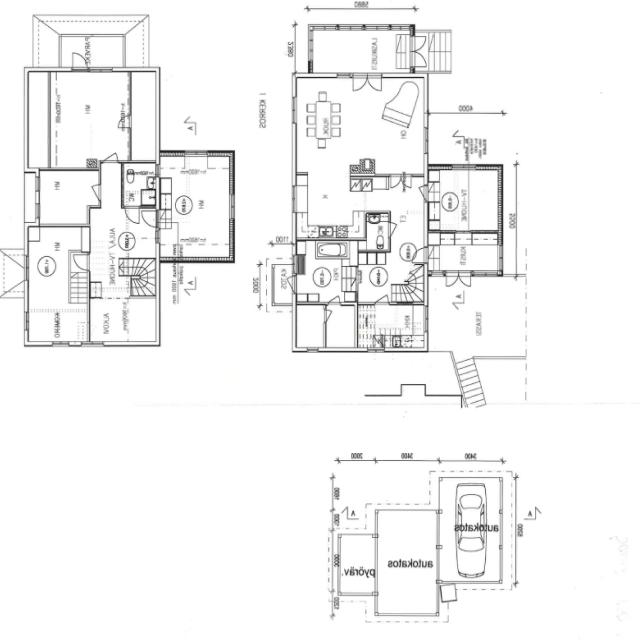door: (71, 47, 89, 72), (140, 210, 160, 228), (276, 274, 297, 291), (83, 184, 102, 201), (408, 186, 428, 202), (374, 284, 390, 304), (72, 254, 90, 271), (410, 52, 429, 68), (410, 36, 429, 52), (409, 247, 428, 262), (103, 144, 118, 163), (368, 72, 382, 92), (354, 72, 368, 92), (323, 308, 340, 324), (125, 206, 140, 224), (458, 272, 471, 290), (328, 286, 341, 304), (388, 223, 404, 237), (446, 272, 458, 290), (116, 114, 131, 127), (401, 174, 412, 189), (390, 174, 401, 189)
